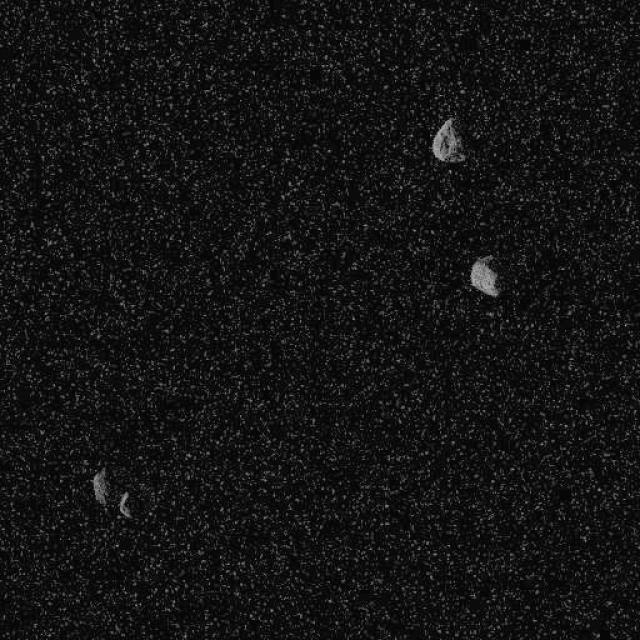D2: (430, 116, 466, 164), (469, 254, 501, 298), (90, 465, 111, 506), (116, 490, 132, 519)
